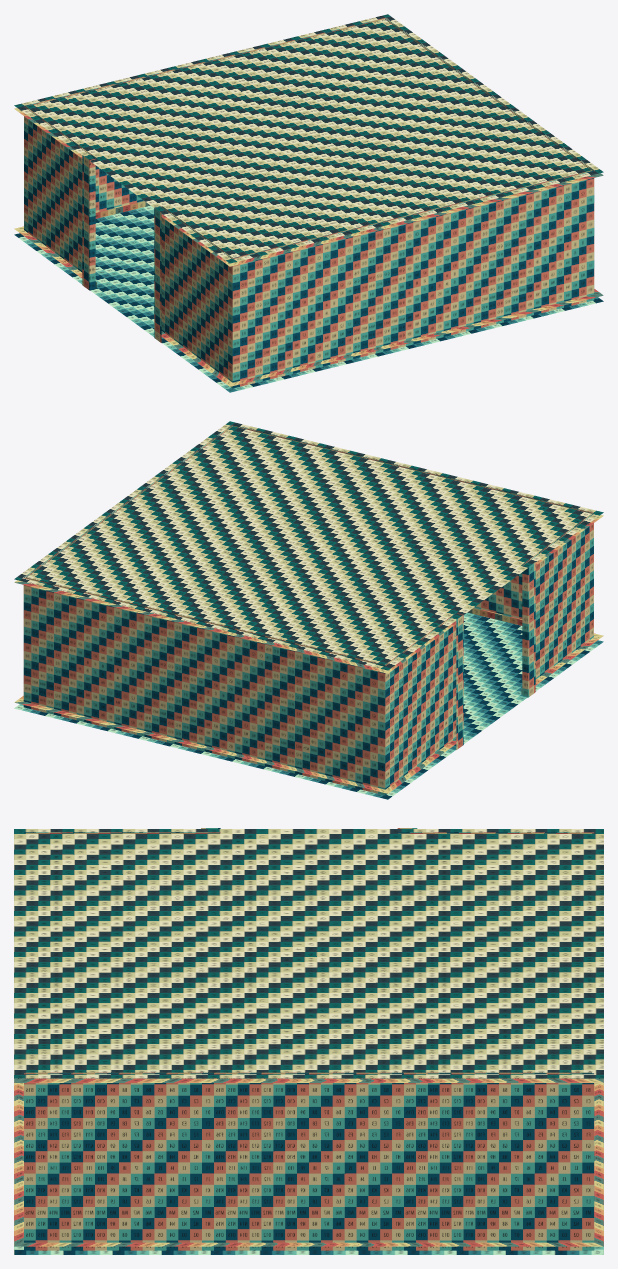
File: Room_6_6_Gen_1.fbx
3 renders of one model, top to bottom at view 1: azimuth 30°, elevation 25°; view 2: azimuth 150°, elevation 25°; view 3: azimuth 270°, elevation 25°, orthographic. The views are drawn at different scales.
Visible parts, largest first — view 1: Room_6_6_Gen_Ceiling, Room_6_6_Gen_Walls, Room_6_6_Gen_Floor, Room_6_6_Gen_PL_CL, Room_6_6_Gen_PL_FL; view 2: Room_6_6_Gen_Ceiling, Room_6_6_Gen_Walls, Room_6_6_Gen_Floor, Room_6_6_Gen_PL_CL, Room_6_6_Gen_PL_FL; view 3: Room_6_6_Gen_Ceiling, Room_6_6_Gen_Walls, Room_6_6_Gen_PL_FL, Room_6_6_Gen_PL_CL, Room_6_6_Gen_Floor.
Boxes of the visible parts, <box> form: Room_6_6_Gen_Ceiling: <box>14,14,603,263</box>; Room_6_6_Gen_Walls: <box>24,17,594,388</box>; Room_6_6_Gen_Floor: <box>14,205,603,392</box>; Room_6_6_Gen_PL_CL: <box>14,18,603,266</box>; Room_6_6_Gen_PL_FL: <box>14,200,603,386</box>; Room_6_6_Gen_Ceiling: <box>14,421,603,670</box>; Room_6_6_Gen_Walls: <box>23,424,593,795</box>; Room_6_6_Gen_Floor: <box>14,612,603,799</box>; Room_6_6_Gen_PL_CL: <box>14,425,603,673</box>; Room_6_6_Gen_PL_FL: <box>14,607,603,793</box>; Room_6_6_Gen_Ceiling: <box>14,829,603,1078</box>; Room_6_6_Gen_Walls: <box>24,828,594,1250</box>; Room_6_6_Gen_PL_FL: <box>14,1083,603,1246</box>; Room_6_6_Gen_PL_CL: <box>14,833,603,1082</box>; Room_6_6_Gen_Floor: <box>14,1246,603,1254</box>.
Bounding box in the file's own units: 600 × 200 × 600.
